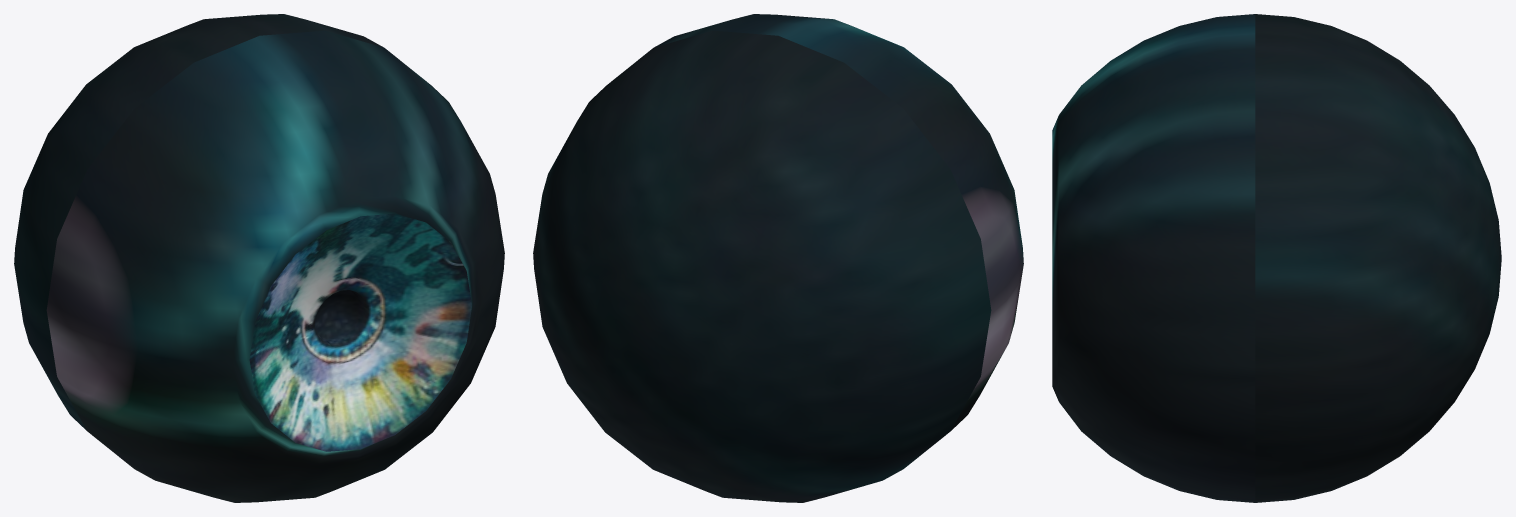
File: eyeball.fbx
The picture shows the model from 3 angles, left to right: view 1: azimuth 30°, elevation 25°; view 2: azimuth 150°, elevation 25°; view 3: azimuth 270°, elevation 25°; orthographic projection.
Parts seen in each view (by area): view 1: eyeball; view 2: eyeball; view 3: eyeball.
Boxes of the visible parts, <box> form: eyeball: <box>14,14,504,502</box>; eyeball: <box>533,14,1023,502</box>; eyeball: <box>1052,14,1501,502</box>.
Size of the model in its own units: 892 by 892 by 814.
